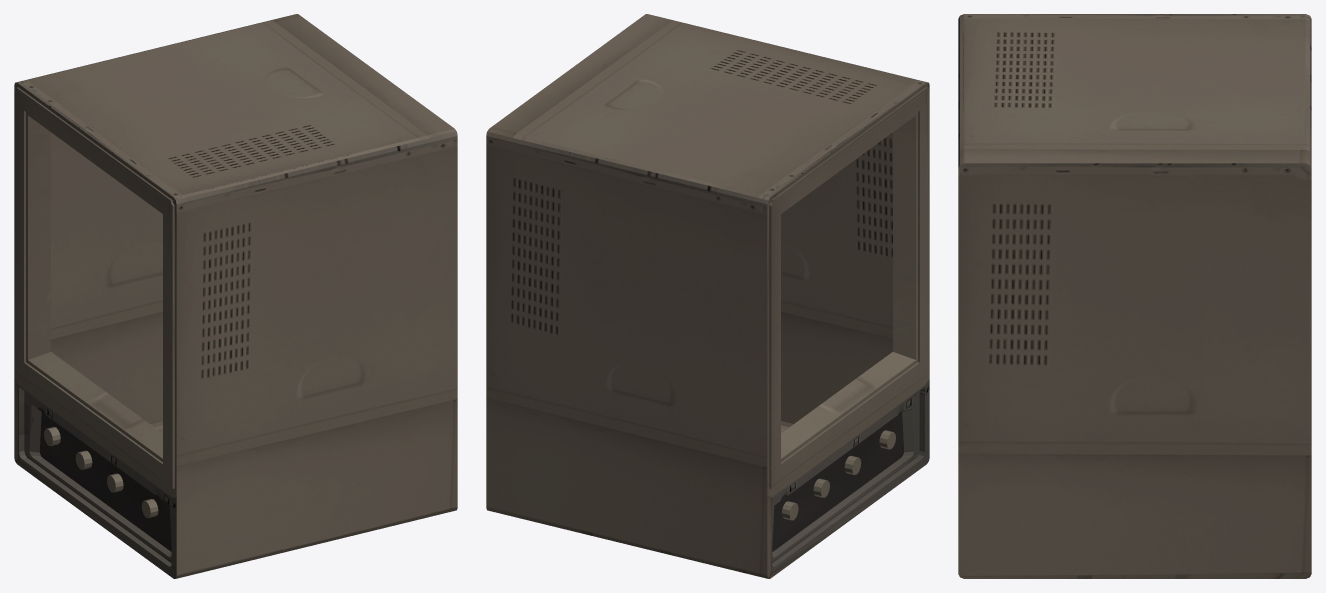
The model's file is Computer_Terminal.glb.
The picture shows the model from 3 angles, left to right: view 1: azimuth 30°, elevation 25°; view 2: azimuth 150°, elevation 25°; view 3: azimuth 270°, elevation 25°; orthographic projection. The views are drawn at different scales.
Parts seen in each view (by area): view 1: Terminal; view 2: Terminal; view 3: Terminal.
Part boxes in pixels (bbox=[...]): Terminal: bbox=[14, 14, 457, 578]; Terminal: bbox=[486, 14, 929, 578]; Terminal: bbox=[958, 14, 1311, 578].
Bounding box in the file's own units: 1.71 × 2.2 × 1.7.
1 material, 1 textured.
